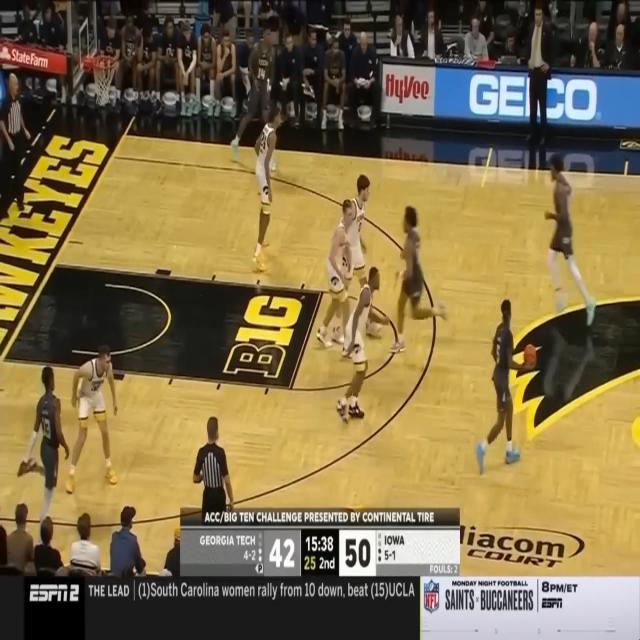Ball: (523, 343, 537, 369)
Hoop: (92, 53, 119, 106)
Player: (330, 171, 385, 345), (17, 362, 69, 544), (544, 156, 597, 330), (474, 298, 526, 474), (389, 203, 448, 354), (335, 264, 389, 426), (63, 344, 119, 496), (229, 24, 277, 171), (314, 195, 356, 358), (250, 104, 281, 280)
Ref: (0, 71, 32, 219), (193, 414, 234, 512)
